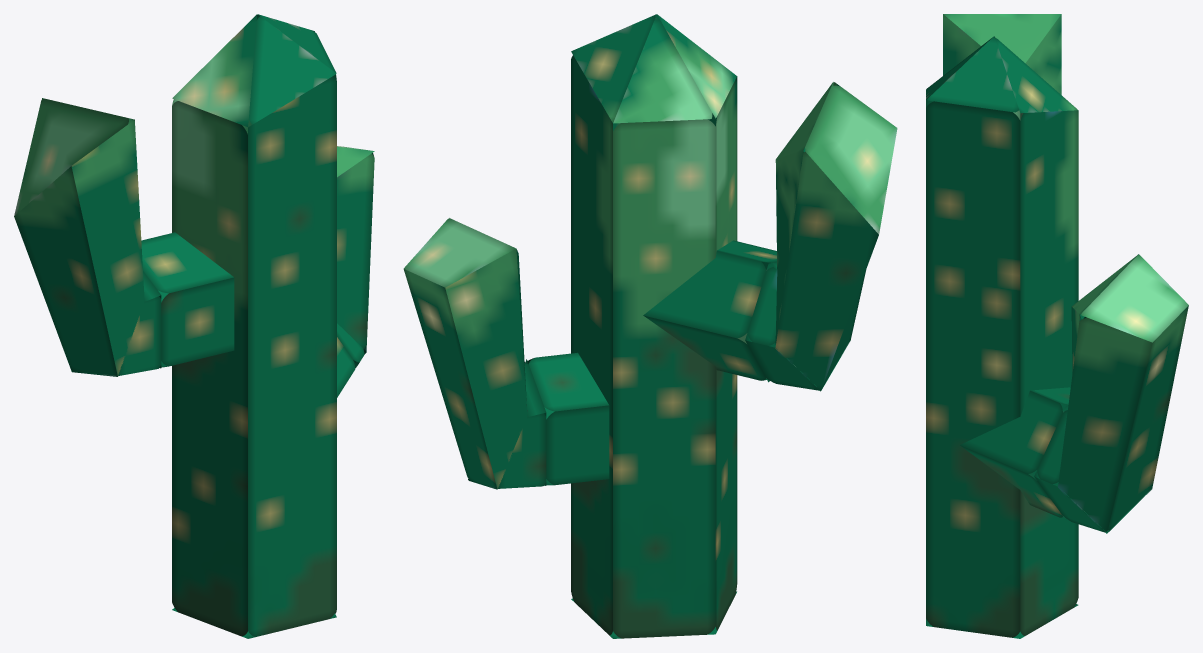
File: Cactus.obj
The picture shows the model from 3 angles, left to right: view 1: azimuth 30°, elevation 25°; view 2: azimuth 150°, elevation 25°; view 3: azimuth 270°, elevation 25°; orthographic projection. The views are drawn at different scales.
Visible parts, largest first — view 1: cylinder; view 2: cylinder; view 3: cylinder.
Boxes of the visible parts, x1=… form: cylinder: x1=14, y1=14, x2=374, y2=638; cylinder: x1=403, y1=14, x2=897, y2=638; cylinder: x1=926, y1=14, x2=1188, y2=638.
Size of the model in its own units: 0.4107 by 0.575 by 0.2408.
Materials: 1 (1 with a texture image).
